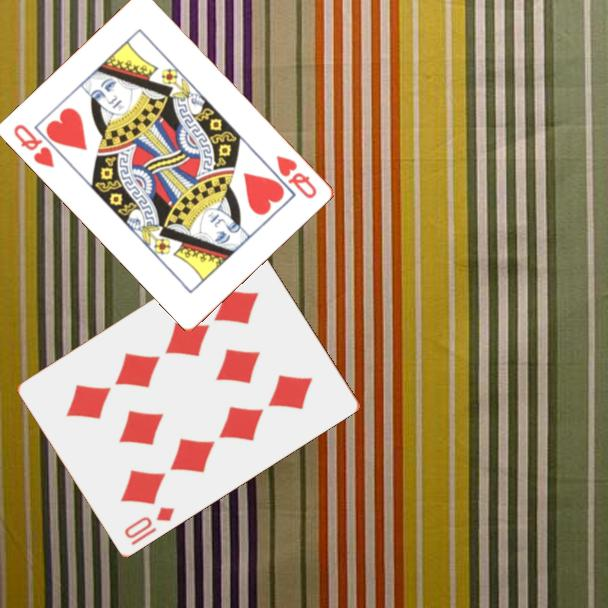d10: (121, 503, 178, 548)
h12: (10, 121, 58, 171), (273, 152, 320, 202)
